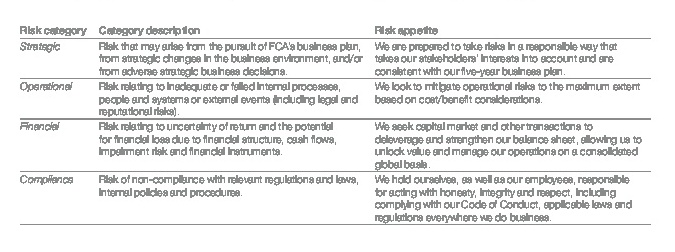table: (0, 0, 675, 252)
